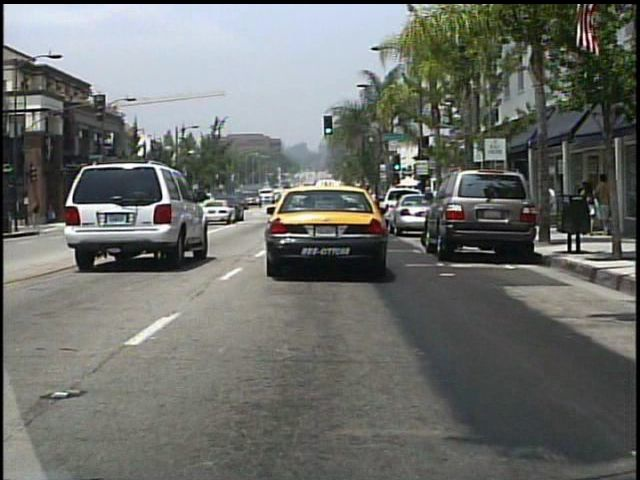person: (596, 172, 617, 237), (581, 179, 600, 240)
